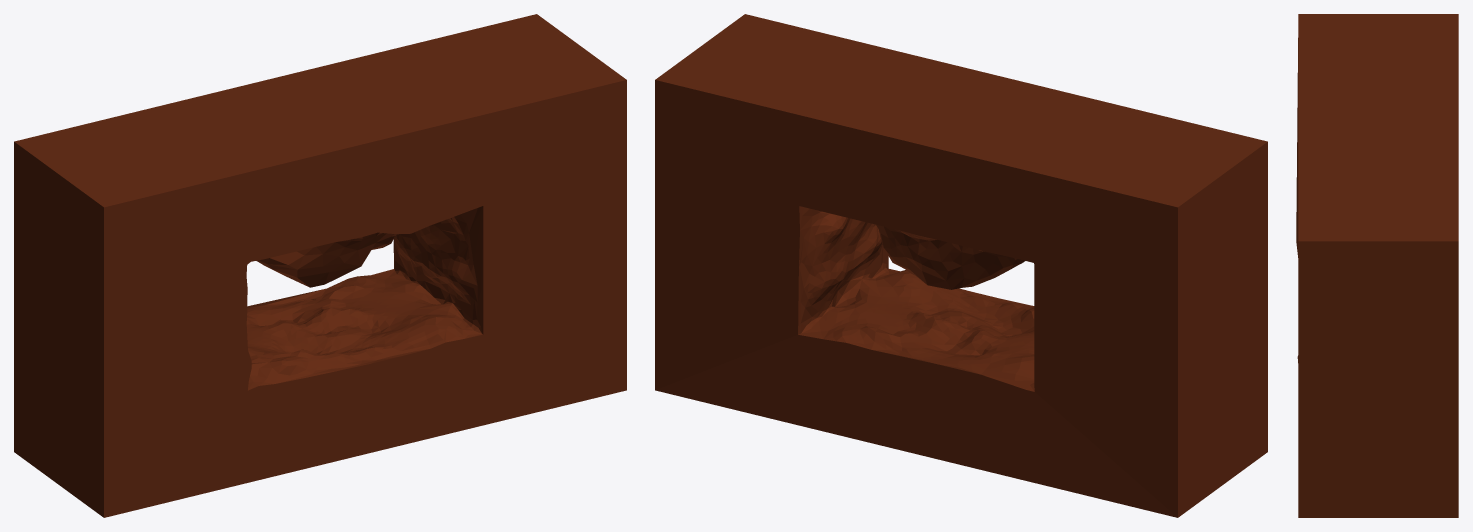
The model's file is BaseWorld_Level_03.glb.
The picture shows the model from 3 angles, left to right: view 1: azimuth 30°, elevation 25°; view 2: azimuth 150°, elevation 25°; view 3: azimuth 270°, elevation 25°; orthographic projection. The views are drawn at different scales.
Parts seen in each view (by area): view 1: Cube; view 2: Cube; view 3: Cube.
Part boxes in pixels (box(x1,y1,x2,y2)): Cube: box(14, 14, 626, 517); Cube: box(655, 14, 1267, 517); Cube: box(1296, 14, 1458, 517).
Size of the model in its own units: 67.08 by 38.07 by 20.27.
